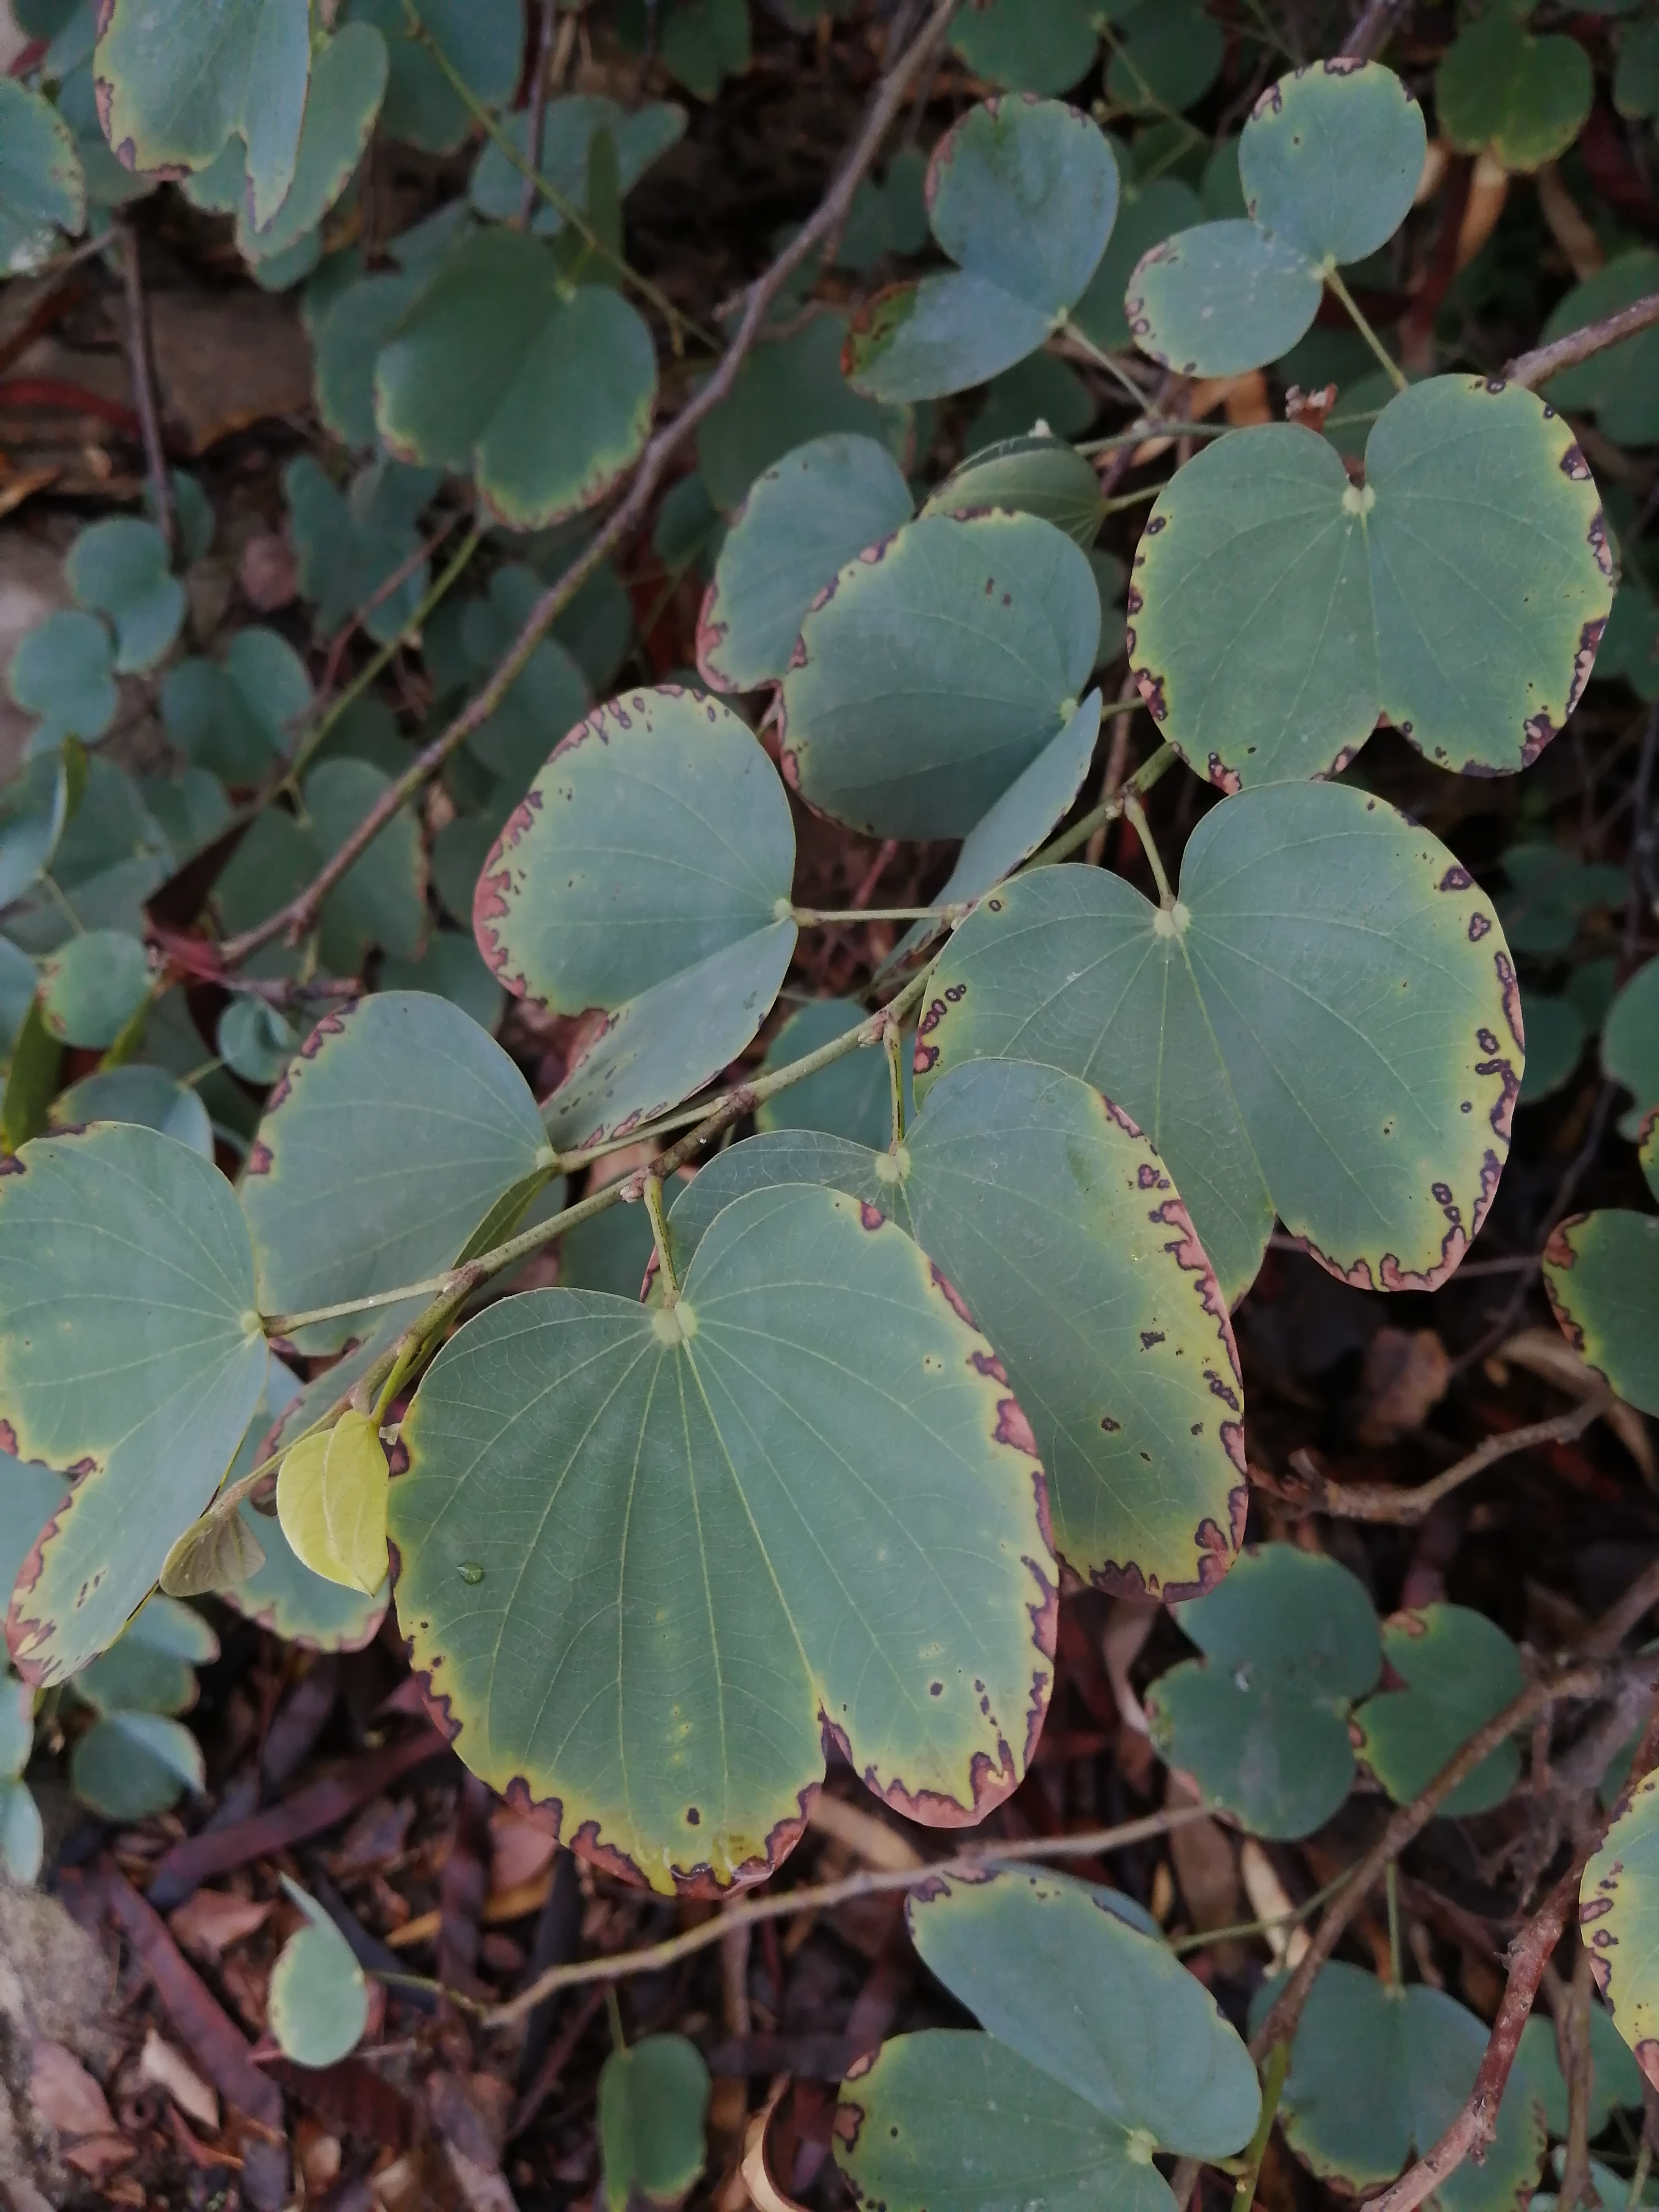nothealthy: (382, 1214, 1080, 1898), (889, 730, 1553, 1352), (683, 1035, 1241, 1629), (1121, 350, 1645, 824), (467, 658, 850, 1179), (214, 963, 558, 1371), (753, 505, 1134, 857), (816, 94, 1133, 446)
